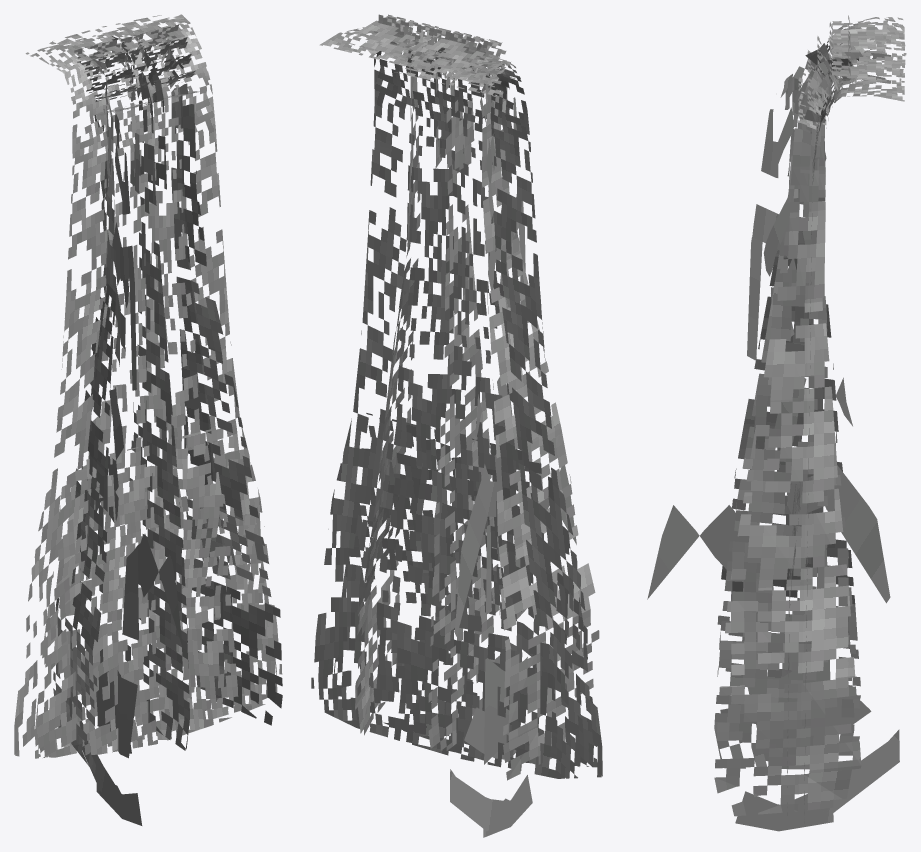
File: vanilla_effects_fxwaterfallthin2048x512-eee58ba6.glb
The picture shows the model from 3 angles, left to right: view 1: azimuth 30°, elevation 25°; view 2: azimuth 150°, elevation 25°; view 3: azimuth 270°, elevation 25°; orthographic projection. The views are drawn at different scales.
Parts seen in each view (by area): view 1: es|fallsMesh11, es|fallsCrossMesh06, es|jet12:0; view 2: es|fallsMesh11, es|fallsCrossMesh06, es|jet12:0; view 3: es|fallsCrossMesh06, es|jet12:0, es|fallsMesh11.
Boxes of the visible parts, left/top/right/bottom form: es|fallsMesh11: left=14, top=14, right=282, bottom=758; es|fallsCrossMesh06: left=53, top=25, right=282, bottom=773; es|jet12:0: left=69, top=109, right=182, bottom=825; es|fallsMesh11: left=311, top=14, right=602, bottom=778; es|fallsCrossMesh06: left=355, top=23, right=599, bottom=780; es|jet12:0: left=450, top=82, right=576, bottom=837; es|fallsCrossMesh06: left=714, top=28, right=891, bottom=816; es|jet12:0: left=647, top=74, right=899, bottom=831; es|fallsMesh11: left=787, top=15, right=906, bottom=823.
Size of the model in its own units: 12.34 by 32.91 by 10.15.
Materials: 3 (3 with a texture image).
